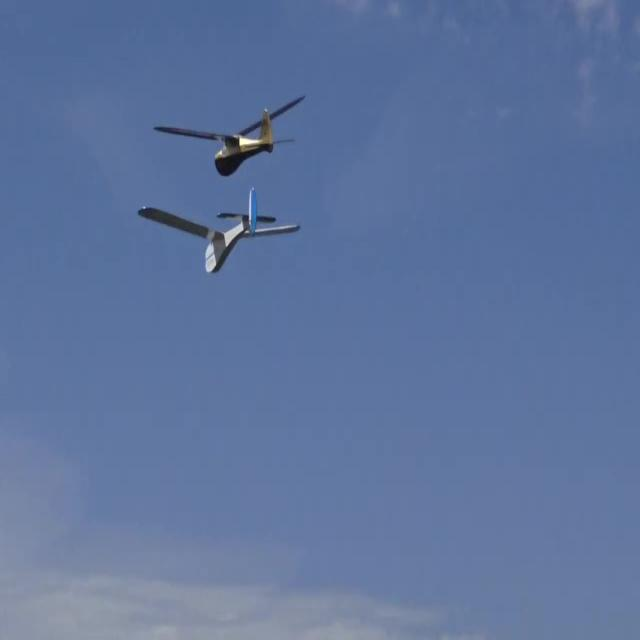iha: (136, 217, 302, 243), (152, 118, 306, 141)
